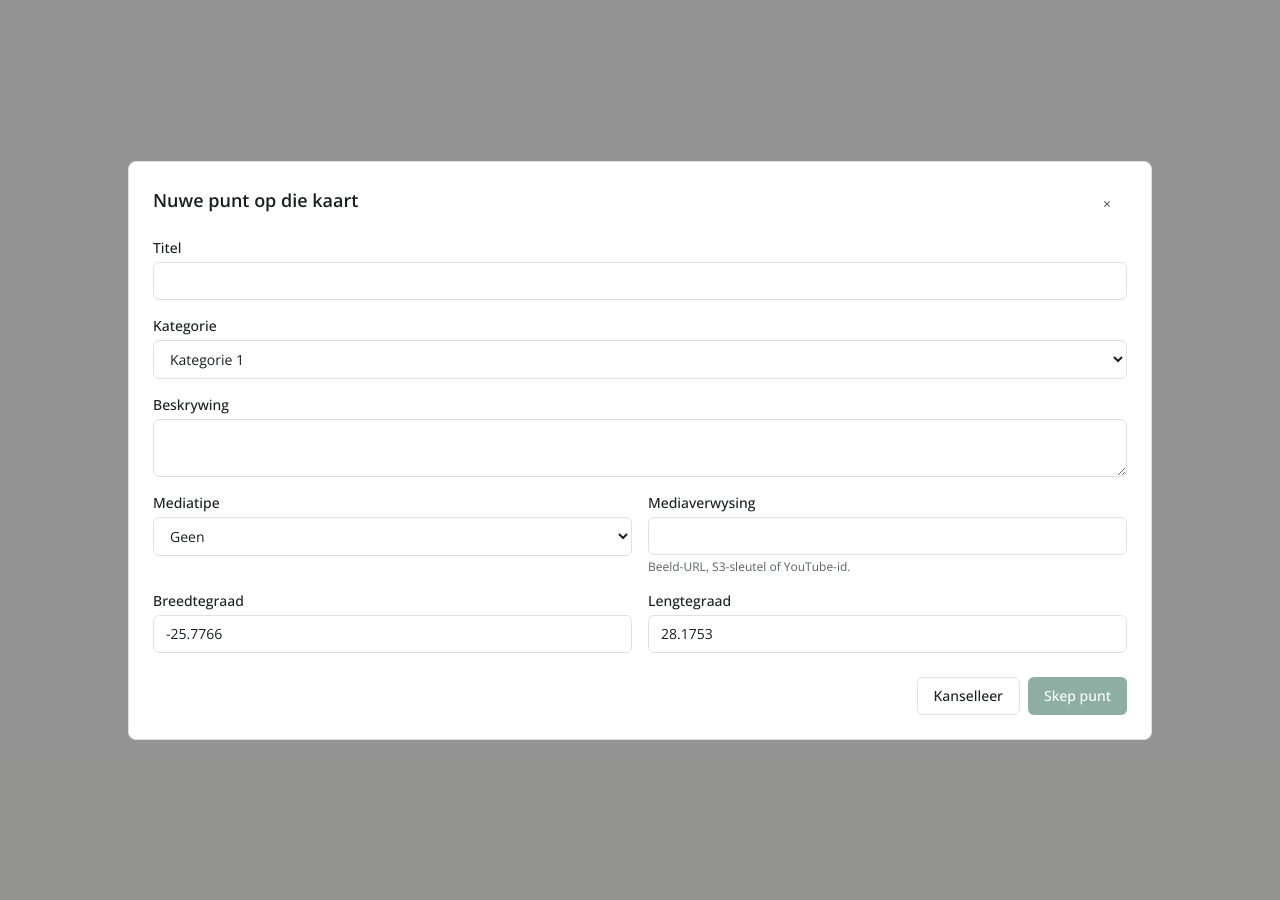
Scenario: CreatePinModal › disables save until a title is entered
Expected: the button "Skep punt" is disabled, [1028,676,1127,714]
Type "Nuwe punt" into the field labelled "Titel".
click(640, 280); type("Nuwe punt")  # box [153,262,1127,300]
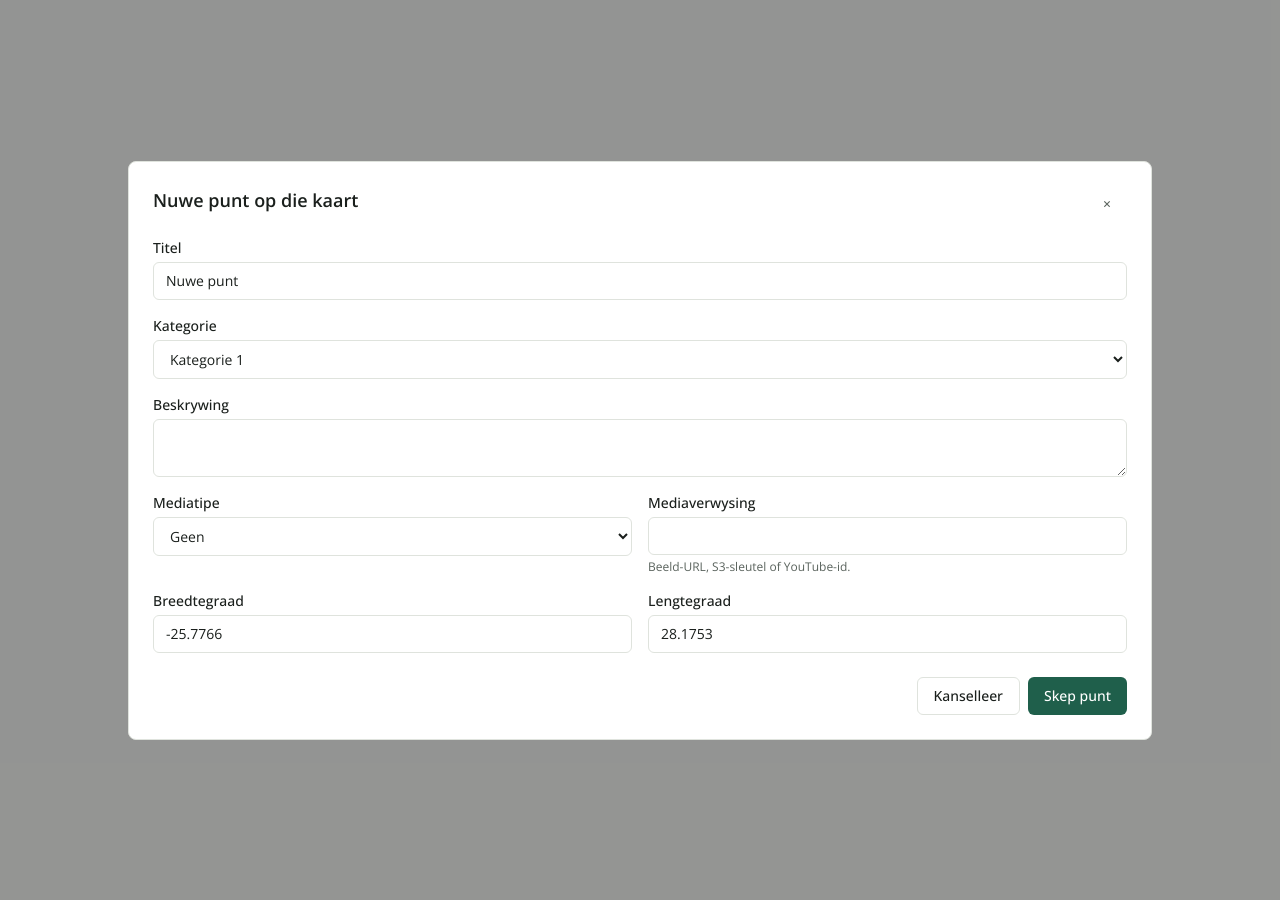
Expected: the button "Skep punt" is enabled, [1028,676,1127,714]
